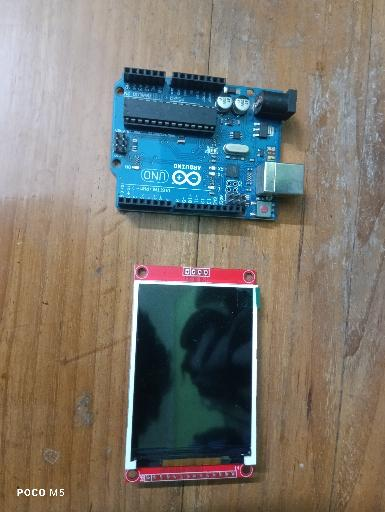Arduino: (110, 66, 305, 222)
Display: (124, 264, 260, 486)
